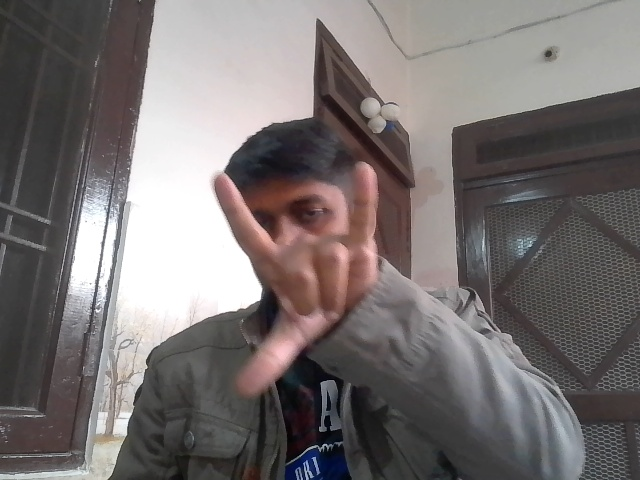ILoveYou: (208, 153, 407, 391)
